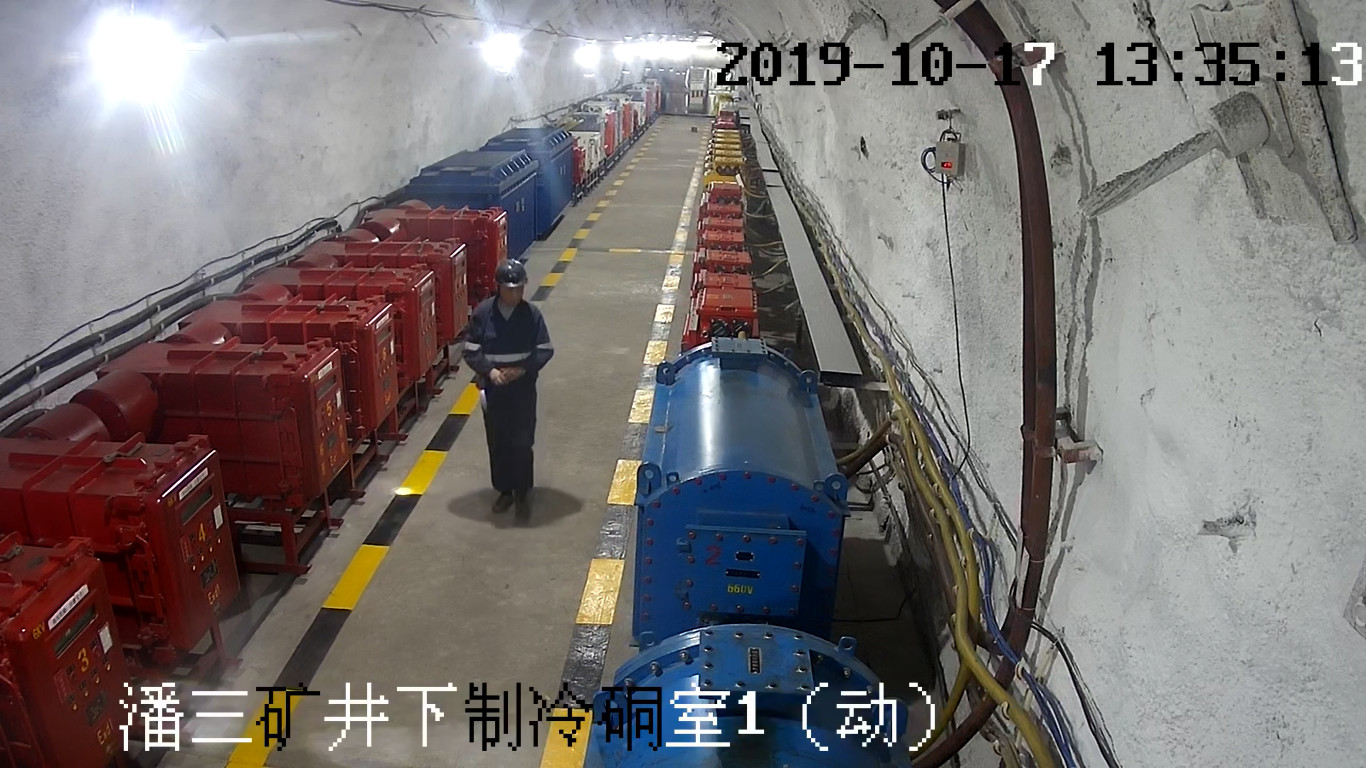helmet: (494, 258, 528, 287)
